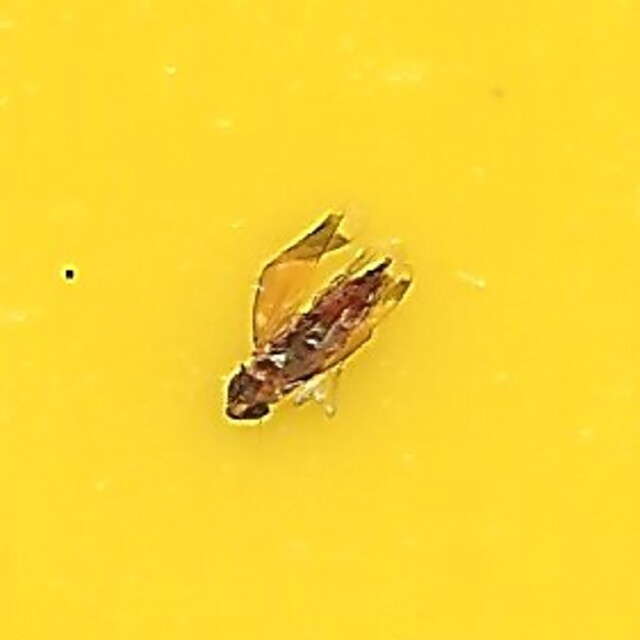Hemiptera: (228, 216, 412, 424)
